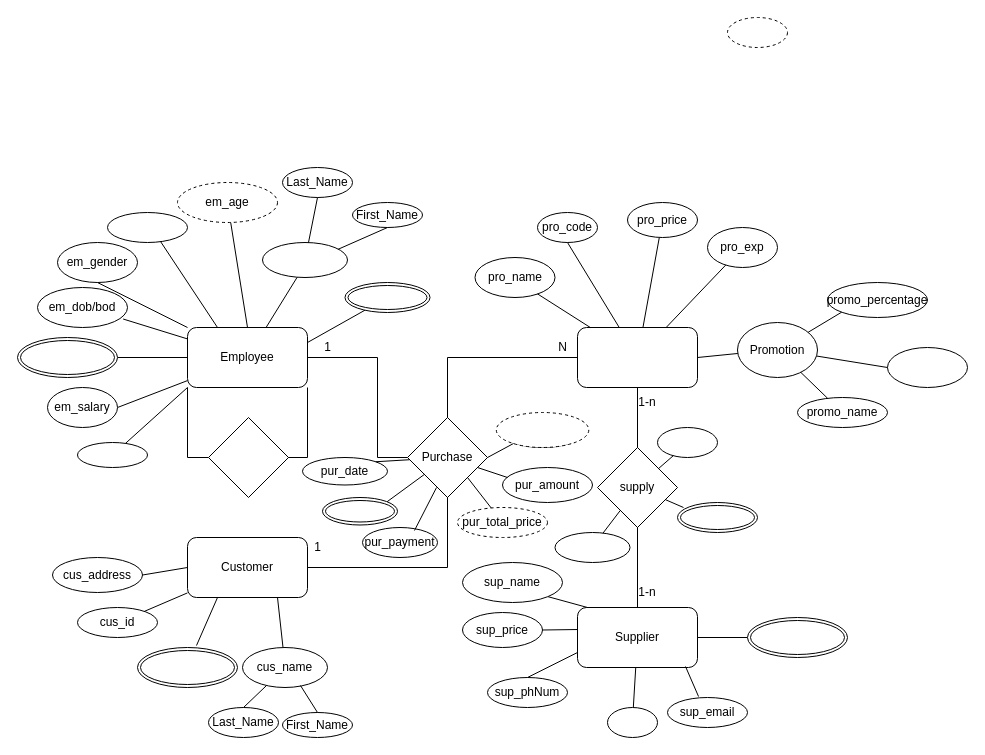
This 985x755 diagram has some shape labels left out. Here are the shapes that lost their labels. From the top down, the centre of each, then its label:
At pixel 757 32: "pur_profit".
At pixel 147 227: "em_address".
At pixel 305 260: "em_name".
At pixel 387 297: "em_position".
At pixel 67 357: "em_phNum".
At pixel 637 357: "Product".
At pixel 927 367: "promo_period".
At pixel 542 430: "pur_change".
At pixel 687 442: "sup_pay".
At pixel 112 455: "em_role".
At pixel 248 457: "supervise".
At pixel 360 510: "pur_item".
At pixel 717 517: "sup_date".
At pixel 592 547: "sup_quantity".
At pixel 797 637: "sup_address".
At pixel 187 667: "cus_phNum".
At pixel 632 722: "sup_id".
